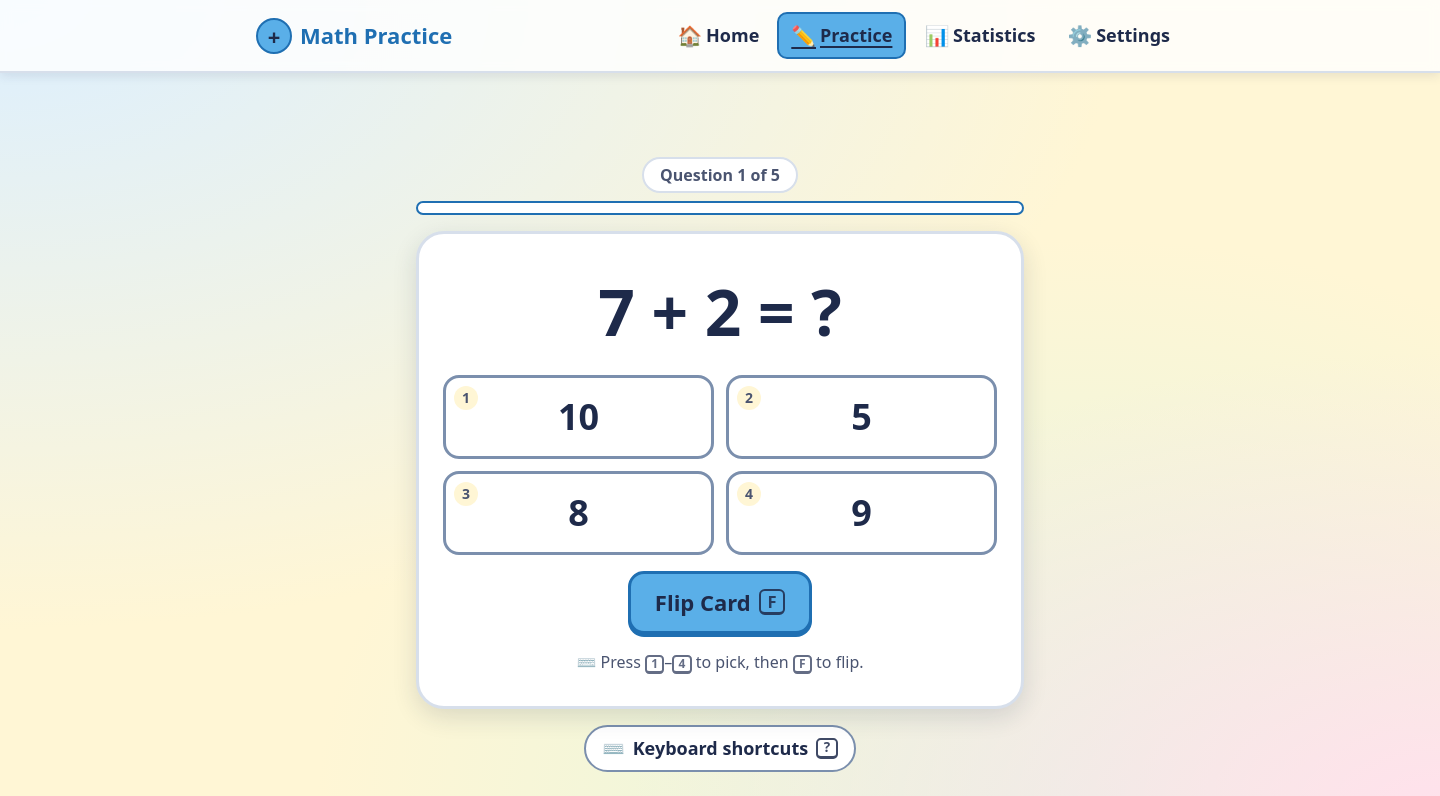
Test case: leaving a session › does not ask before any question is answered
Click the link "🏠 Home".
click(718, 35)  # box 677,22 -> 759,49
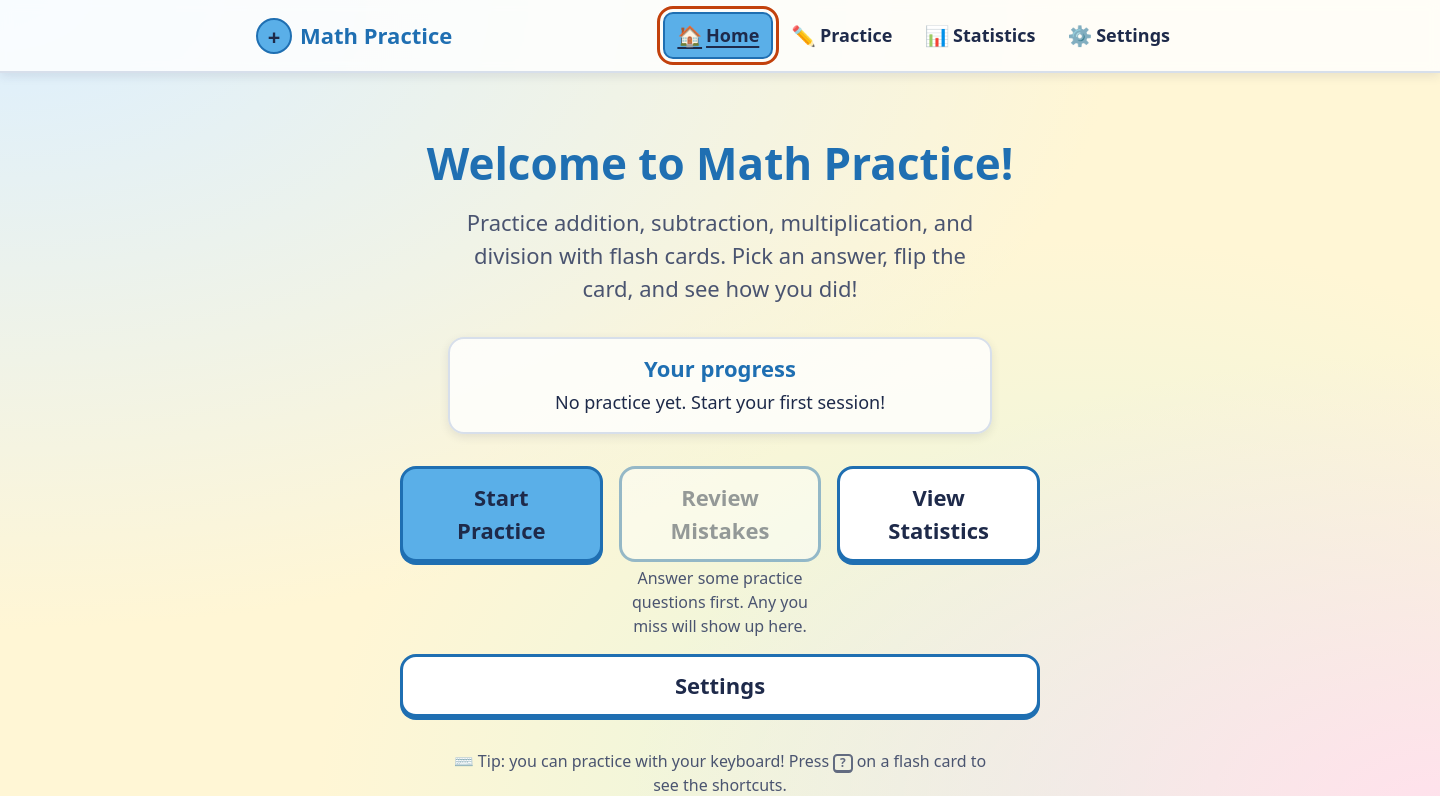
Result: the heading "Welcome to Math Practice!" is shown at 427,133 -> 1013,193
